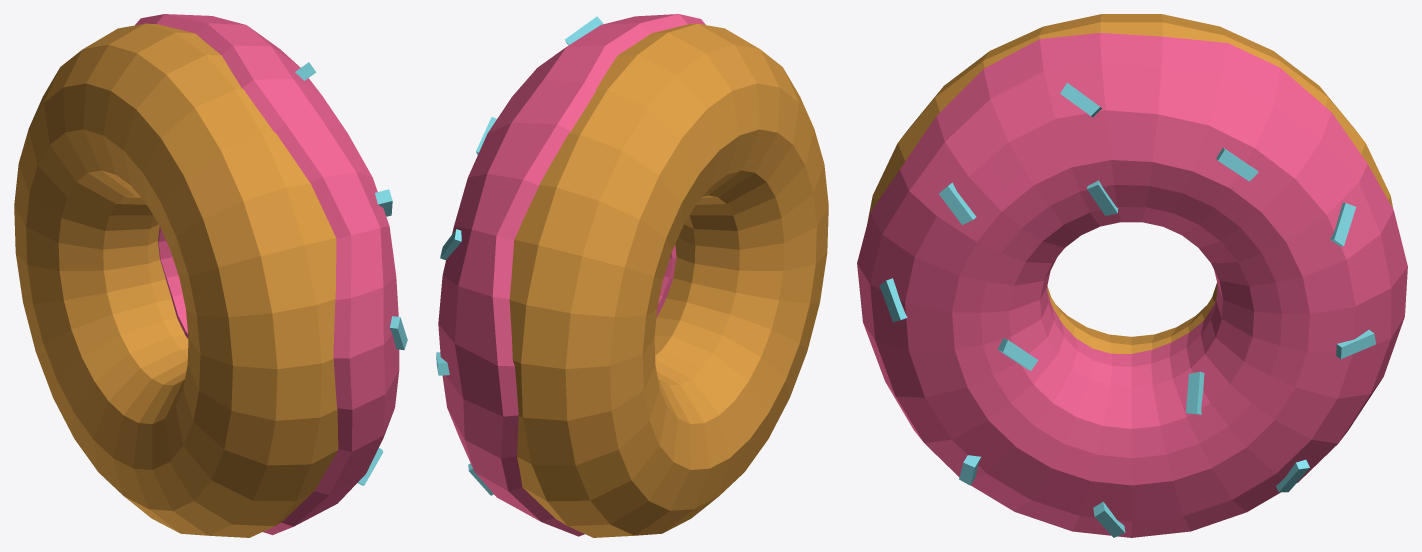
Rendered from donut4.gltf.
The picture shows the model from 3 angles, left to right: view 1: azimuth 30°, elevation 25°; view 2: azimuth 150°, elevation 25°; view 3: azimuth 270°, elevation 25°; orthographic projection. The views are drawn at different scales.
Parts seen in each view (by area): view 1: Donut_01; view 2: Donut_01; view 3: Donut_01.
Part boxes in pixels (x1=…): Donut_01: x1=14, y1=14, x2=407, y2=537; Donut_01: x1=436, y1=14, x2=828, y2=537; Donut_01: x1=857, y1=14, x2=1407, y2=537.
Bounding box in the file's own units: 2.13 × 4.92 × 5.
